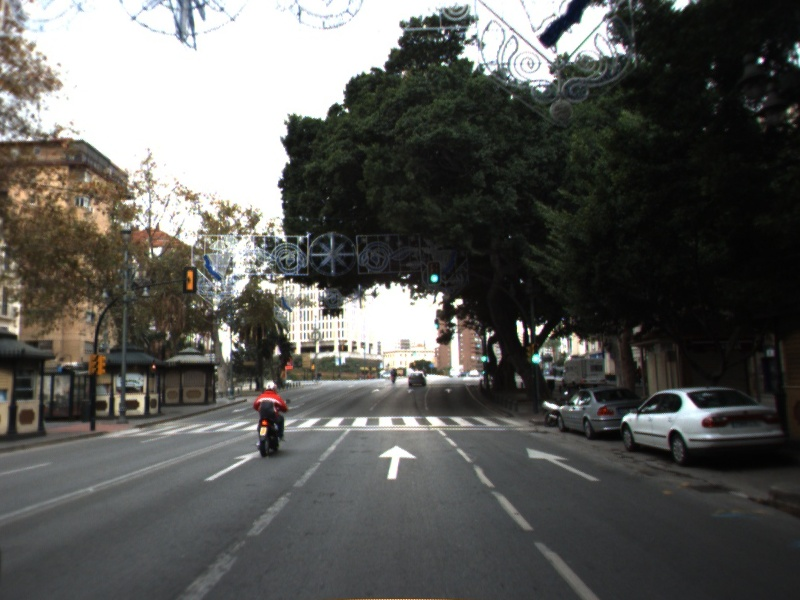STRAIGHT: (524, 445, 603, 483), (202, 447, 273, 483), (376, 443, 419, 481)
